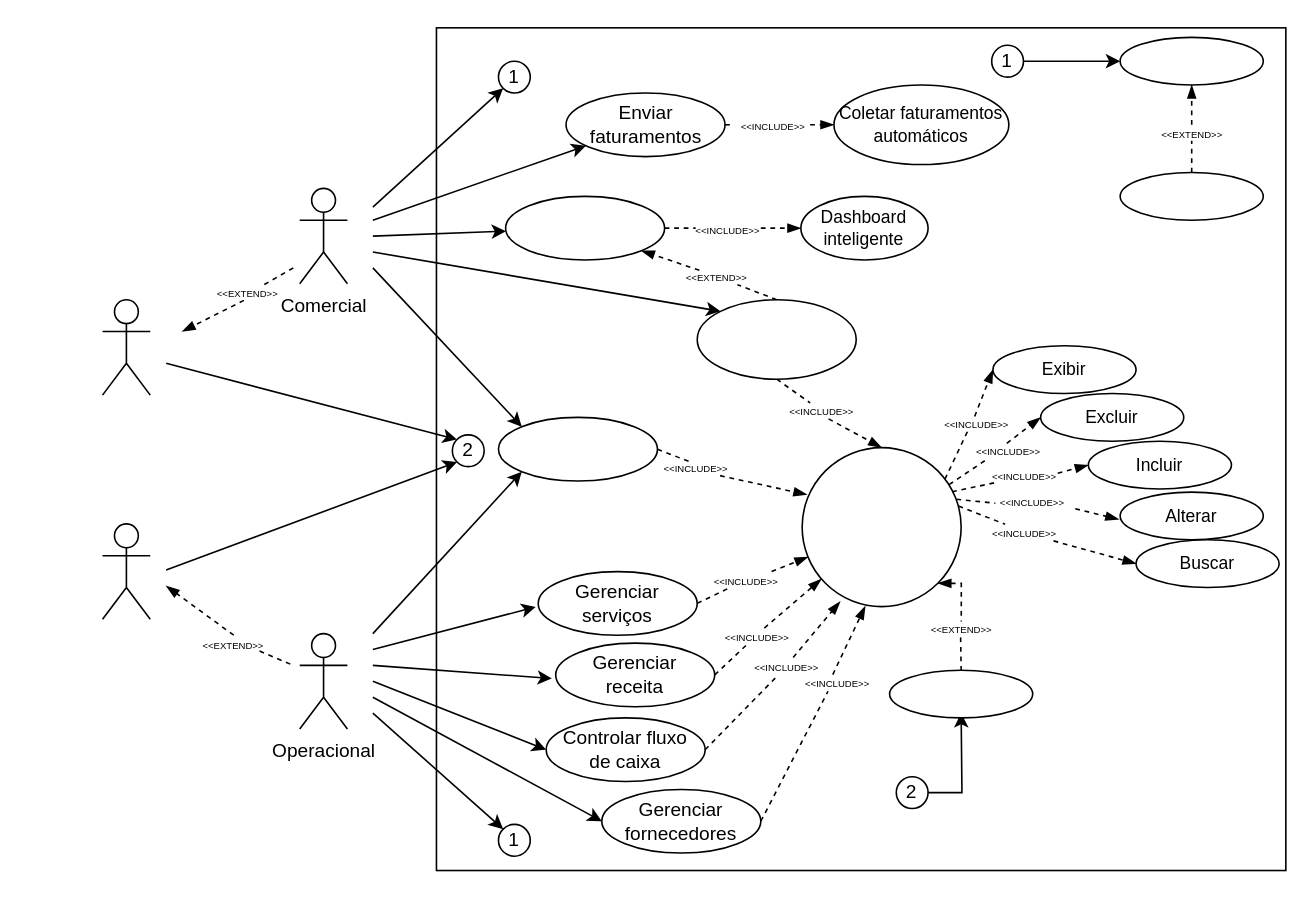
Image size: 1315x898. Some labels were removed from this diagram. Each missing label, with the centre of its shape:
"Análisar dados" belongs at pixel 584 227.
"Entrar na conta" belongs at pixel 1191 60.
"Gerenciar relações com clientes" belongs at pixel 776 338.
"gerenciar usuarios" belongs at pixel 960 693.
"Gerir dados relacionados" belongs at pixel 881 526.
"Gerir notas fiscais" belongs at pixel 577 448.
"sair da conta" belongs at pixel 1191 195.
"Sócio Comercial" belongs at pixel 125 346.
"Sócio Operacional" belongs at pixel 125 570.
